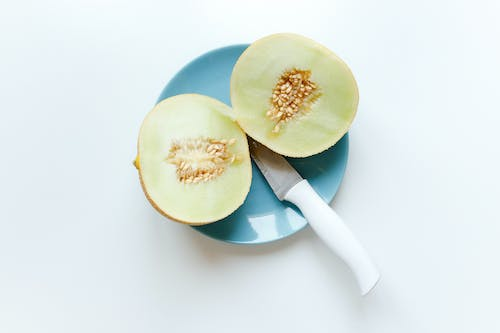knife: (246, 133, 383, 297)
